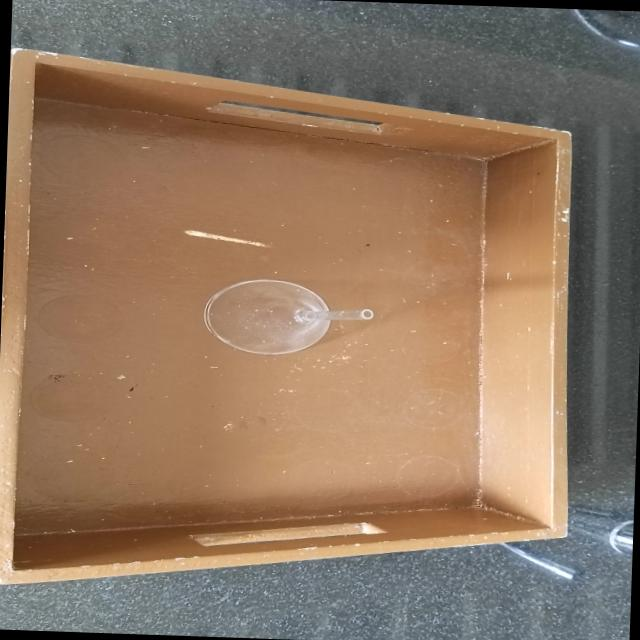funnel: (193, 270, 381, 366)
